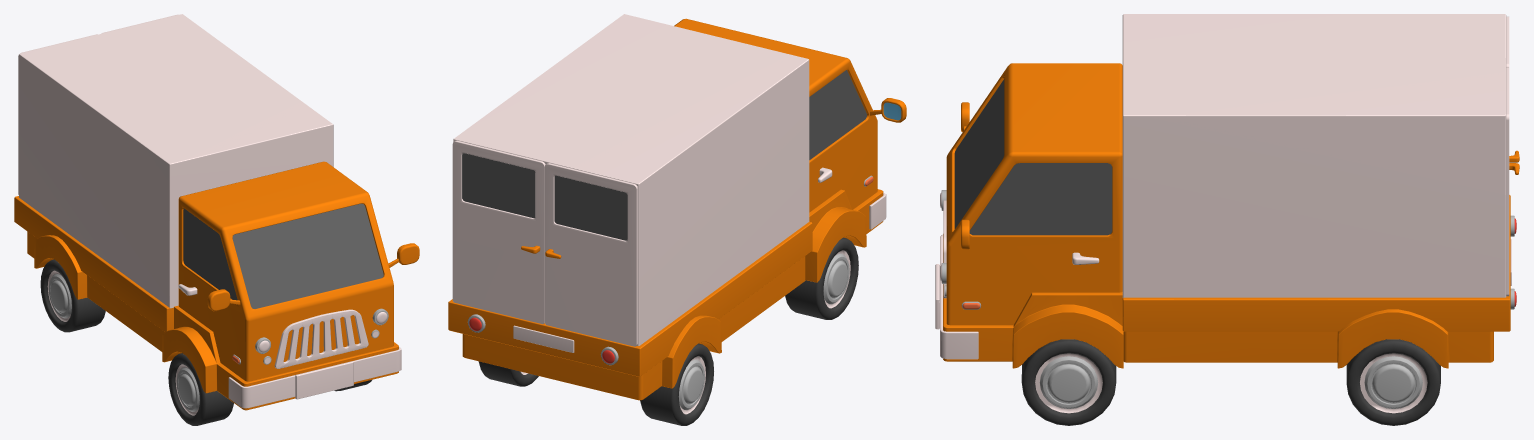
Rendered from Public_6_Truck_1.glb.
The picture shows the model from 3 angles, left to right: view 1: azimuth 30°, elevation 25°; view 2: azimuth 150°, elevation 25°; view 3: azimuth 270°, elevation 25°; orthographic projection. The views are drawn at different scales.
Visible parts, largest first — view 1: Public_6_Truck_1; view 2: Public_6_Truck_1; view 3: Public_6_Truck_1.
Part boxes in pixels (<box>): Public_6_Truck_1: <box>14,14,419,425</box>; Public_6_Truck_1: <box>448,14,906,425</box>; Public_6_Truck_1: <box>935,14,1519,425</box>.
Bounding box in the file's own units: 3.17 × 3.52 × 6.02.
Materials: 1 (1 with a texture image).
